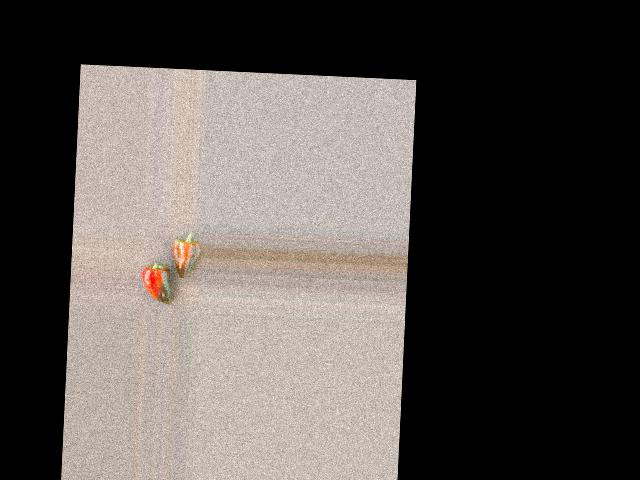bell_pepper: (138, 247, 175, 306)
